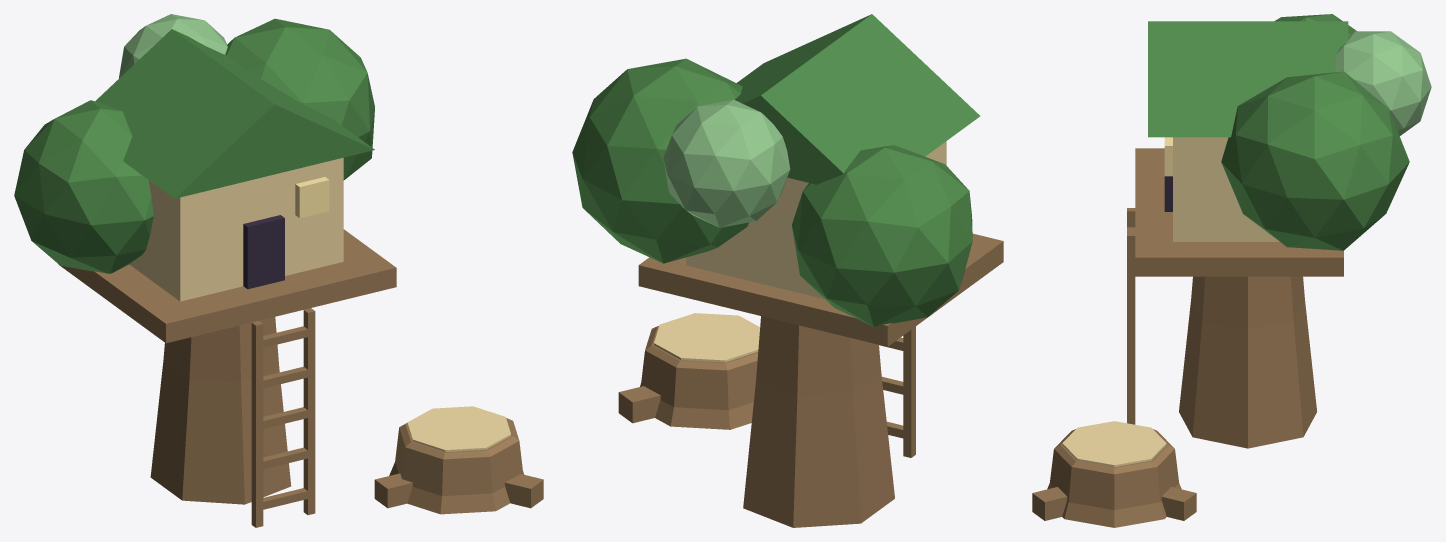
File: forest-landmark-s2.glb
3 views of the same model, side by side, from view 1: azimuth 30°, elevation 25°; view 2: azimuth 150°, elevation 25°; view 3: azimuth 270°, elevation 25° (orthographic). The views are drawn at different scales.
Parts seen in each view (by area): view 1: forest-landmark-s2; view 2: forest-landmark-s2; view 3: forest-landmark-s2.
Part boxes in pixels (x1,y1,x2,y2): forest-landmark-s2: (14,14,543,527); forest-landmark-s2: (572,14,1003,527); forest-landmark-s2: (1032,14,1431,527).
Size of the model in its own units: 1.07 by 1.05 by 0.9569.
